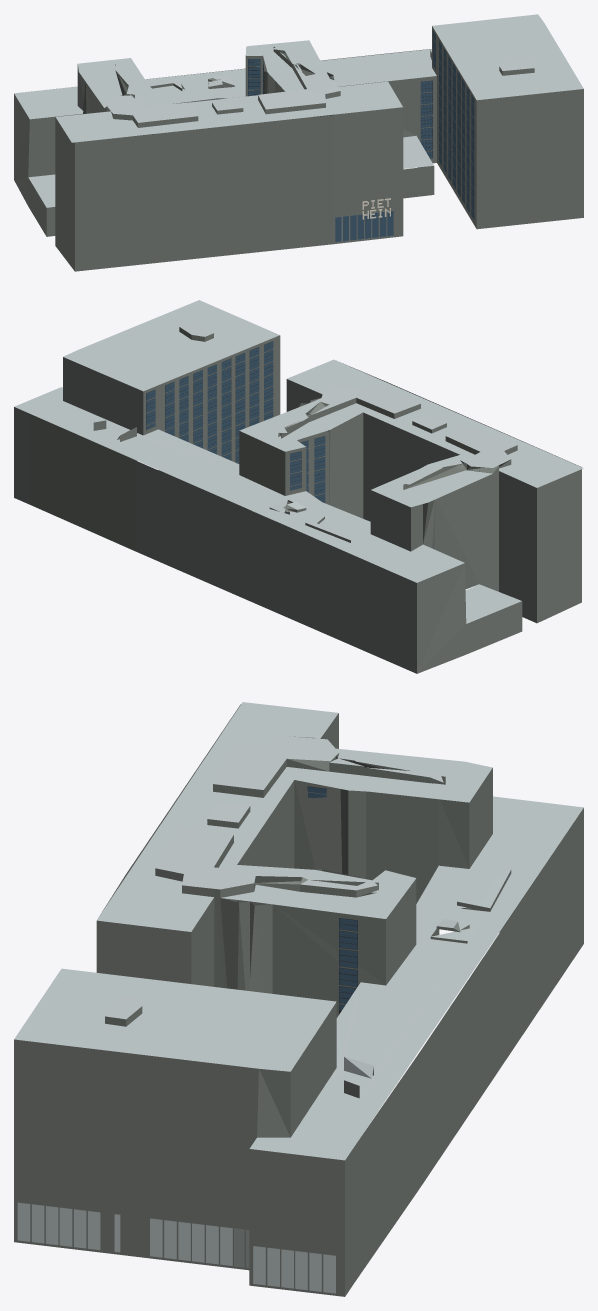
The model's file is vriesseveem-9.lod1.glb.
3 renders of one model, top to bottom at view 1: azimuth 30°, elevation 25°; view 2: azimuth 150°, elevation 25°; view 3: azimuth 270°, elevation 25°, orthographic. The views are drawn at different scales.
Parts seen in each view (by area): view 1: vriesseveem-9; view 2: vriesseveem-9; view 3: vriesseveem-9.
Part boxes in pixels (x1,y1,x2,y2): vriesseveem-9: (14,14,583,271); vriesseveem-9: (14,300,583,673); vriesseveem-9: (14,702,583,1296).
Size of the model in its own units: 138 by 34.93 by 85.
